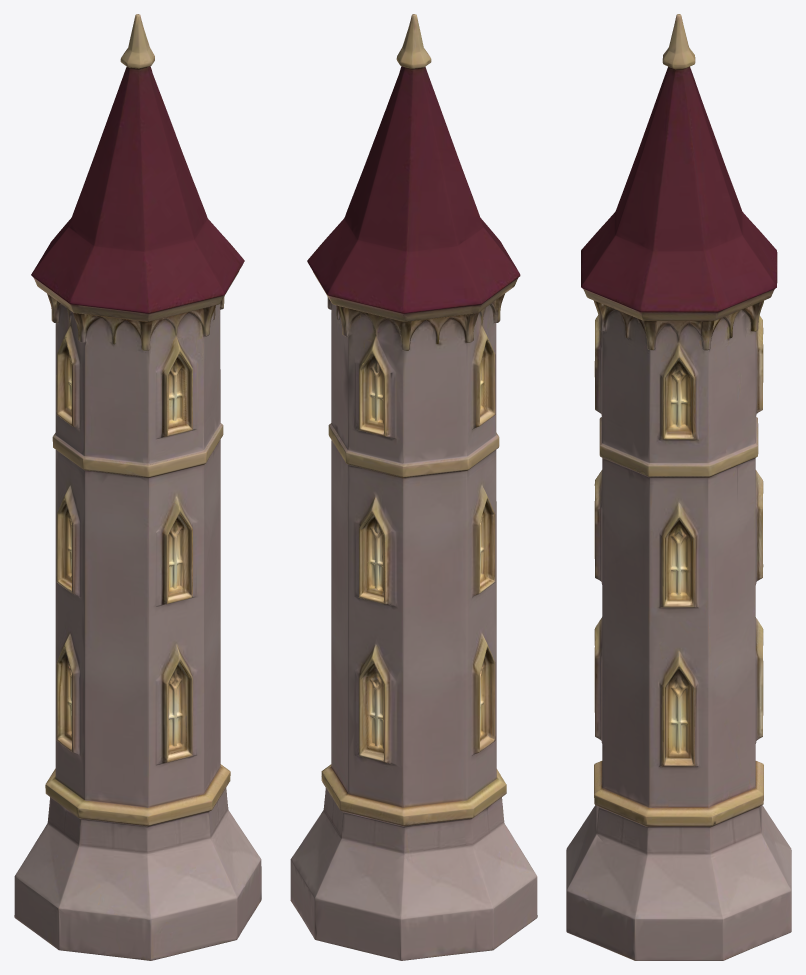
The model's file is king_tower_b.glb.
3 renders of one model, left to right at view 1: azimuth 30°, elevation 25°; view 2: azimuth 150°, elevation 25°; view 3: azimuth 270°, elevation 25°, orthographic.
Visible parts, largest first — view 1: node_0; view 2: node_0; view 3: node_0.
Boxes of the visible parts, box(x1,y1,x2,y2) form: node_0: box(14, 14, 261, 960); node_0: box(290, 14, 537, 960); node_0: box(566, 14, 791, 960).
Size of the model in its own units: 0.2764 by 1.16 by 0.2649.
1 material, 1 textured.
